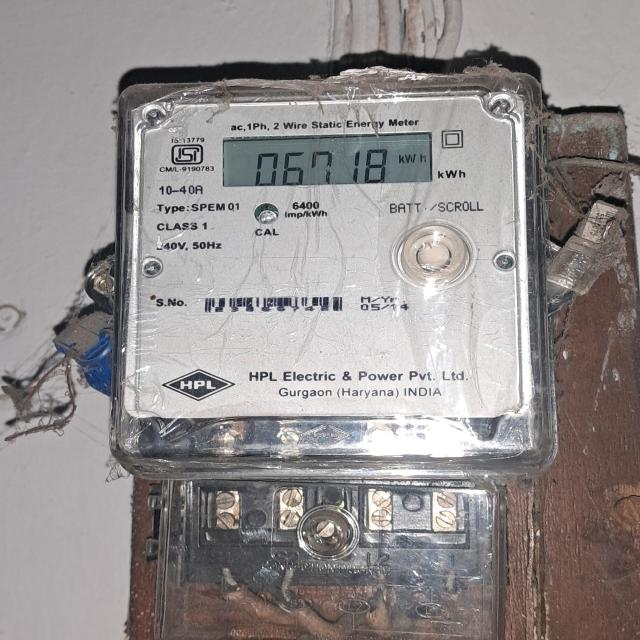display: (217, 138, 433, 188)
